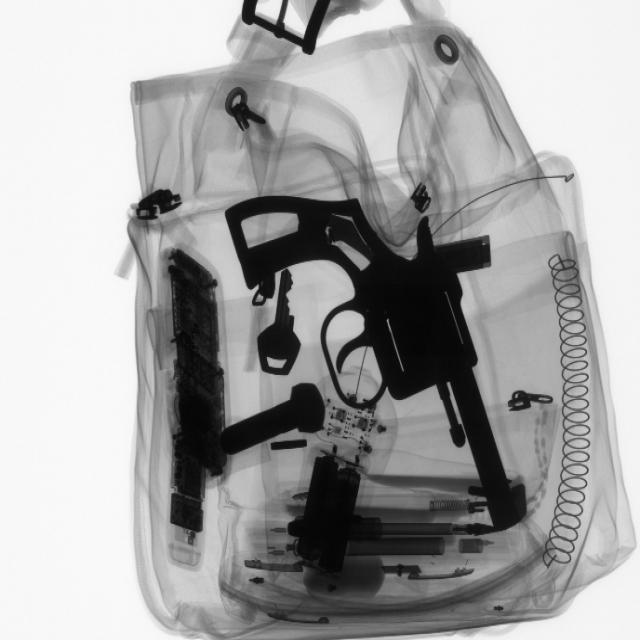GUN: (210, 187, 507, 537)
